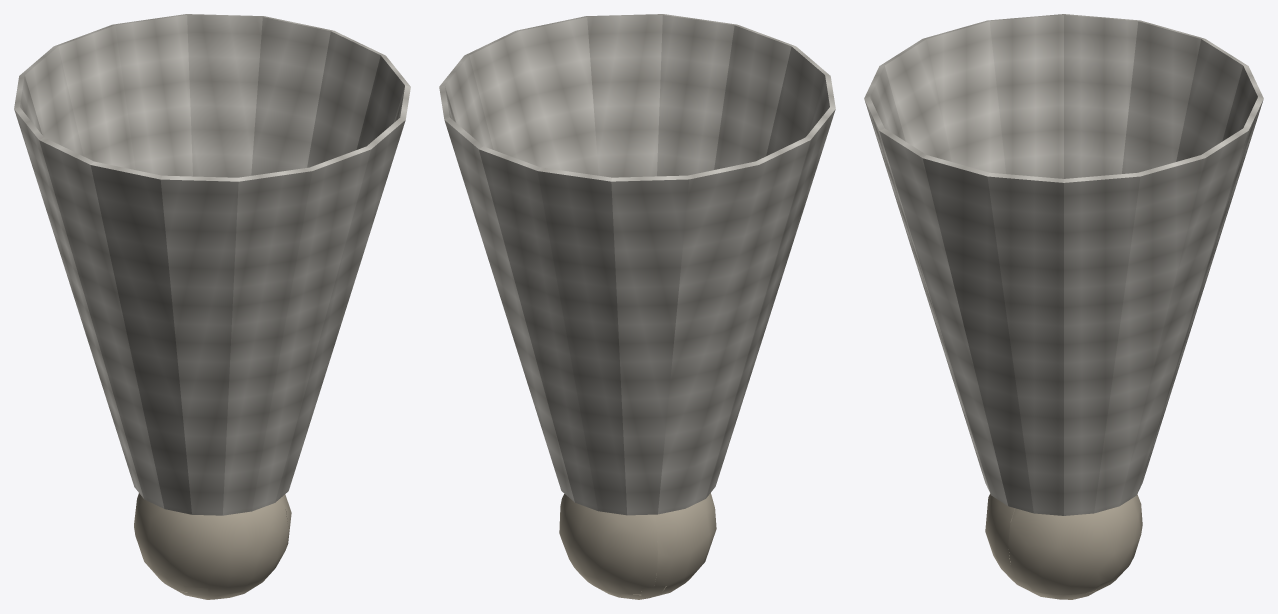
Rendered from SP16_Shuttlecock.glb.
The picture shows the model from 3 angles, left to right: view 1: azimuth 30°, elevation 25°; view 2: azimuth 150°, elevation 25°; view 3: azimuth 270°, elevation 25°; orthographic projection.
Visible parts, largest first — view 1: SP16_Shuttlecock; view 2: SP16_Shuttlecock; view 3: SP16_Shuttlecock.
Part boxes in pixels (box(x1,y1,x2,y2)): SP16_Shuttlecock: box(14, 14, 410, 599); SP16_Shuttlecock: box(439, 14, 835, 599); SP16_Shuttlecock: box(864, 14, 1263, 599).
Size of the model in its own units: 0.0731 by 0.1 by 0.0731.
Materials: 2 (2 with a texture image).
